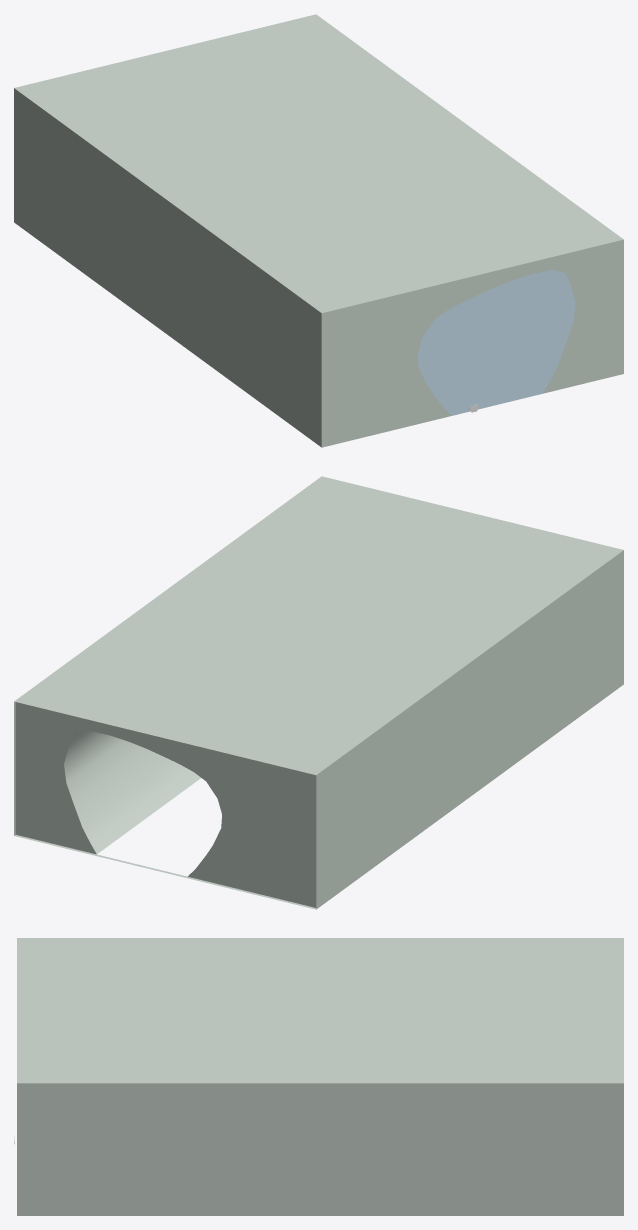
The model's file is MTT_MainMenuWall1.fbx.
The picture shows the model from 3 angles, top to bottom: view 1: azimuth 30°, elevation 25°; view 2: azimuth 150°, elevation 25°; view 3: azimuth 270°, elevation 25°; orthographic projection.
Visible parts, largest first — view 1: Cube; view 2: Cube; view 3: Cube.
Part boxes in pixels (<box>): Cube: <box>14,14,623,447</box>; Cube: <box>14,476,623,909</box>; Cube: <box>17,938,623,1215</box>.
Size of the model in its own units: 20000 by 8500 by 35459.
